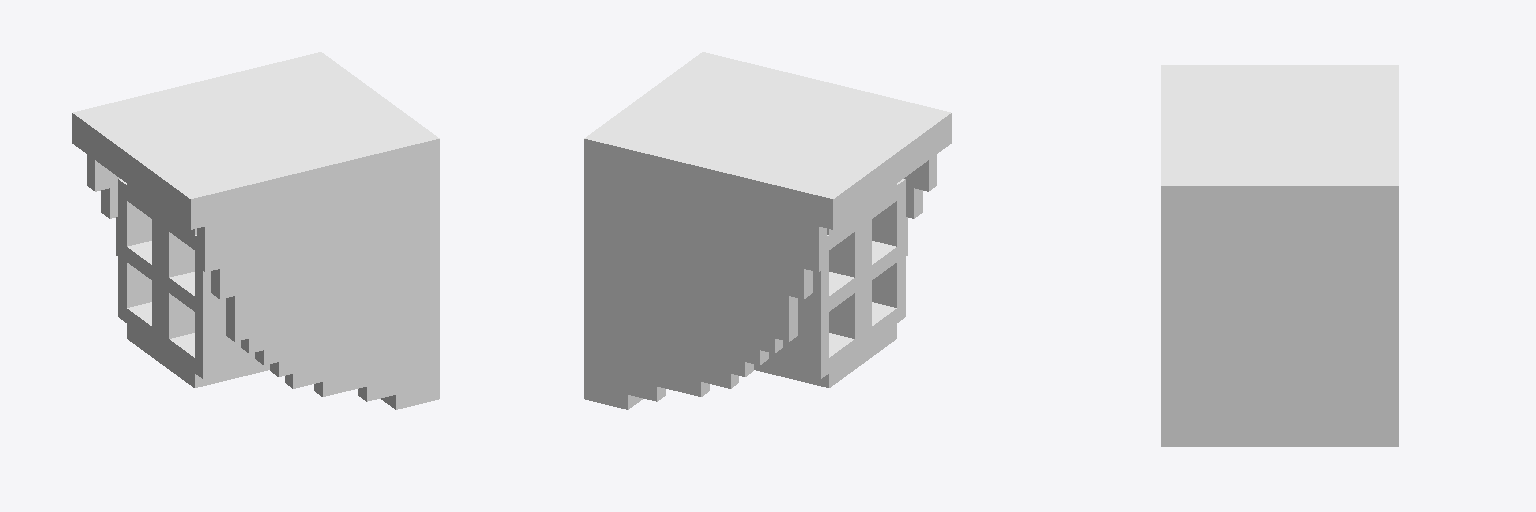
File: Boss_UFO-1.obj
The picture shows the model from 3 angles: view 1: azimuth 30°, elevation 25°; view 2: azimuth 150°, elevation 25°; view 3: azimuth 270°, elevation 25°; orthographic projection.
Visible parts, largest first — view 1: object 1; view 2: object 1; view 3: object 1.
Part boxes in pixels (x1,y1,x2,y2): object 1: (72,52,439,409); object 1: (584,52,951,409); object 1: (1161,65,1398,446).
Size of the model in its own units: 1.7 by 1.7 by 1.4.